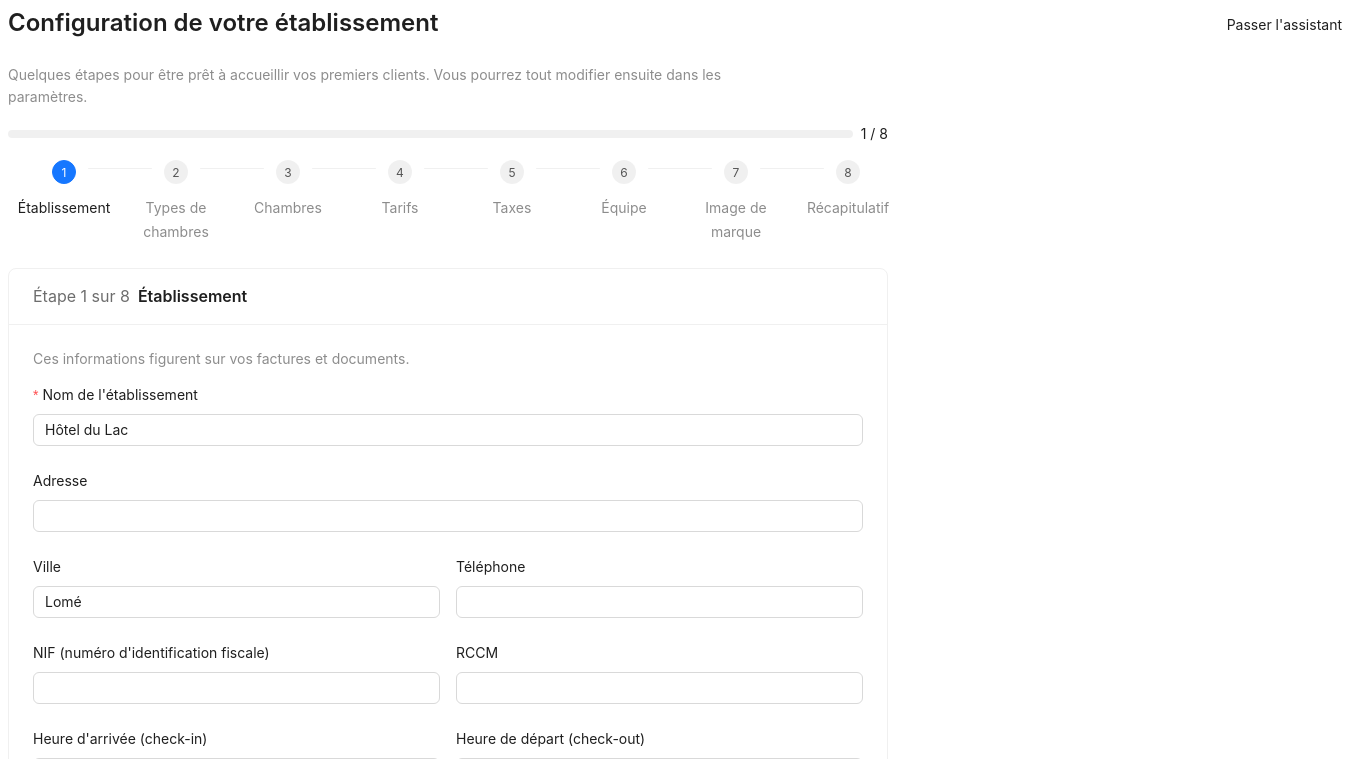
Test: onboarding wizard › skipping the wizard marks it skipped and goes to the dashboard
The width and height of the screenshot is (1366, 759).
Check: the text "Étape 1 sur 8" is shown, box [33,286,130,306]
Click the button "Passer l'assistant".
click(1284, 24)  # box [1211,8,1358,40]
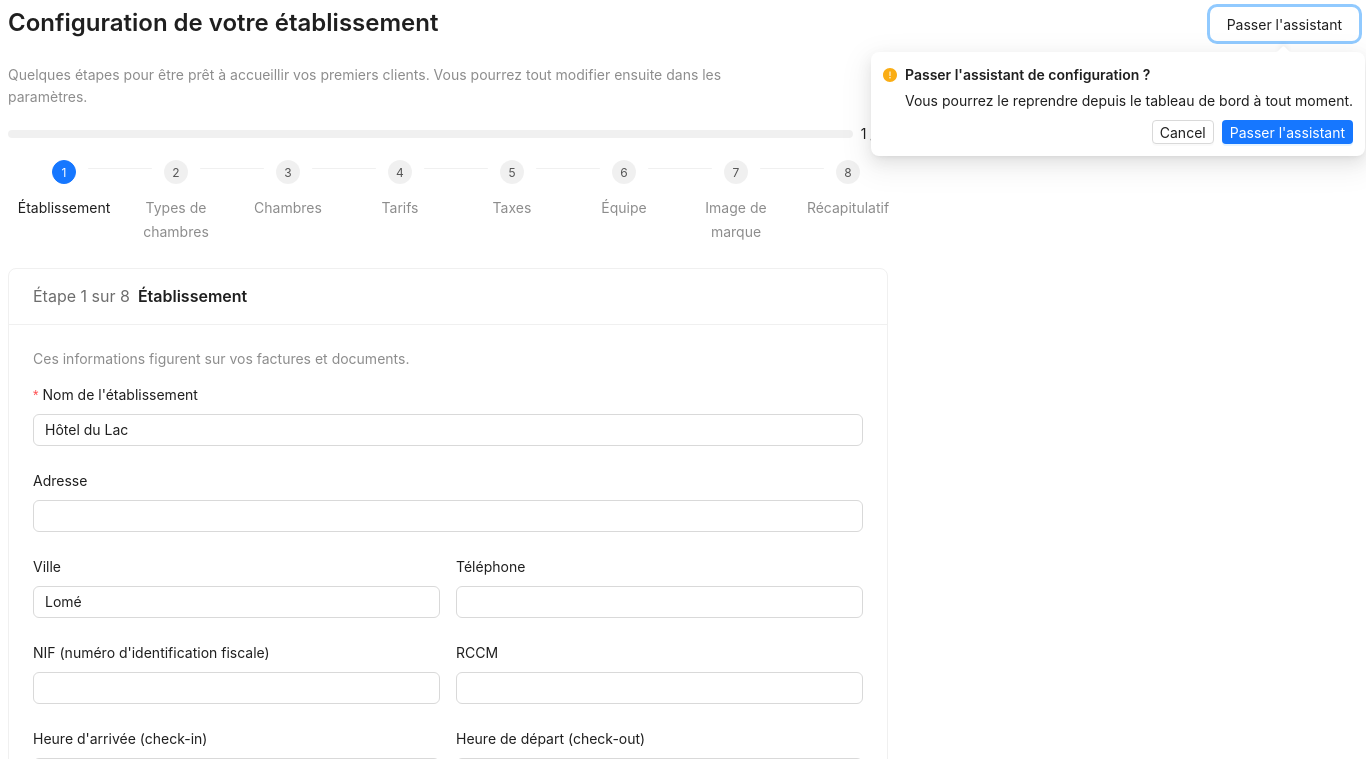
Click the button "Passer l'assistant" below "Passer l'assistant de configuration ?".
click(1287, 132)  # box [1222,120,1353,144]
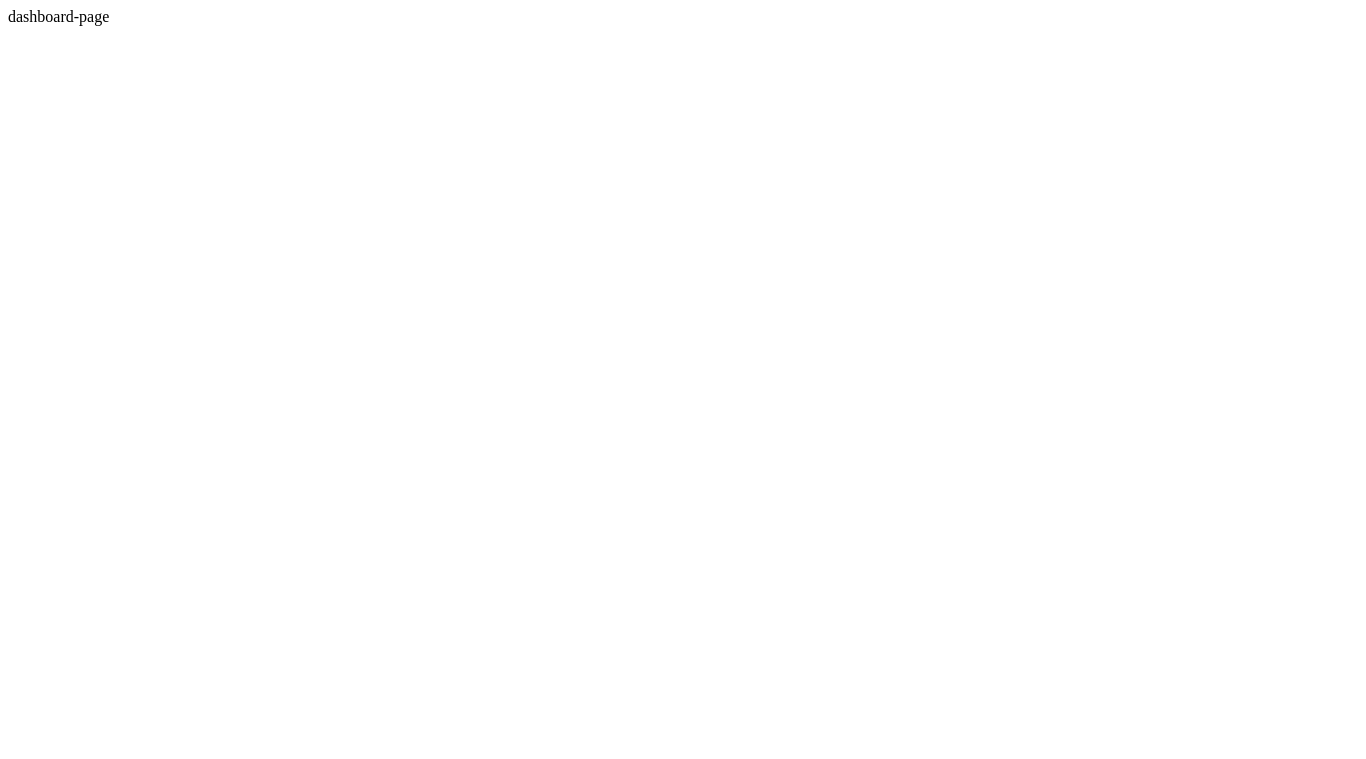
Check: the text "dashboard-page" is shown, box [8,8,109,25]
